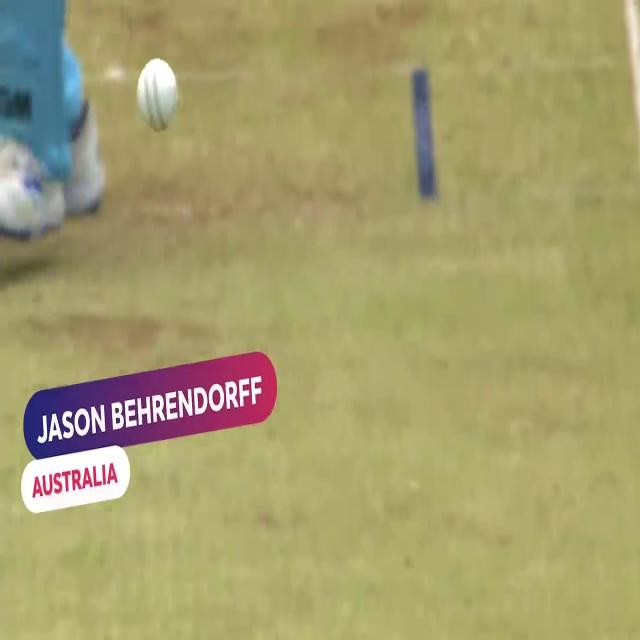ball: (131, 51, 193, 153)
